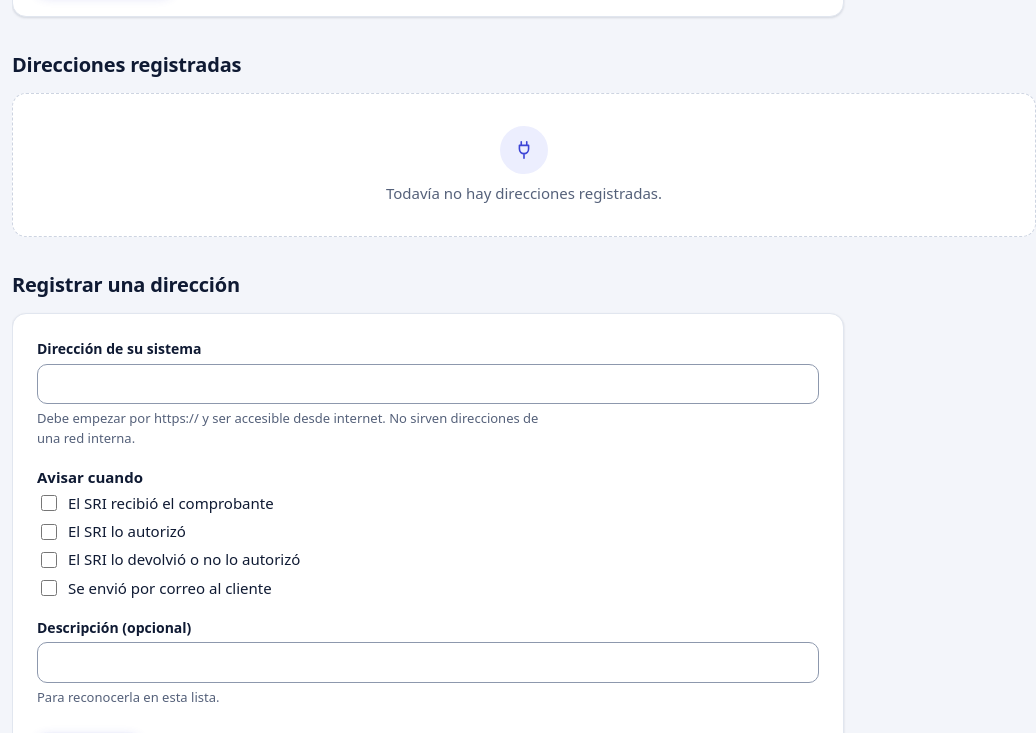
Integraciones › shows in plain words why the API refused an address
The width and height of the screenshot is (1036, 733).
(page scrolled)
expect the text "Todavía no hay direcciones registradas." is shown: met, box [386, 182, 662, 204]
Type "https://10.0.0.1/x" into the field labelled "Dirección de su sistema".
click(428, 384); type("https://10.0.0.1/x")  # box [37, 364, 819, 404]
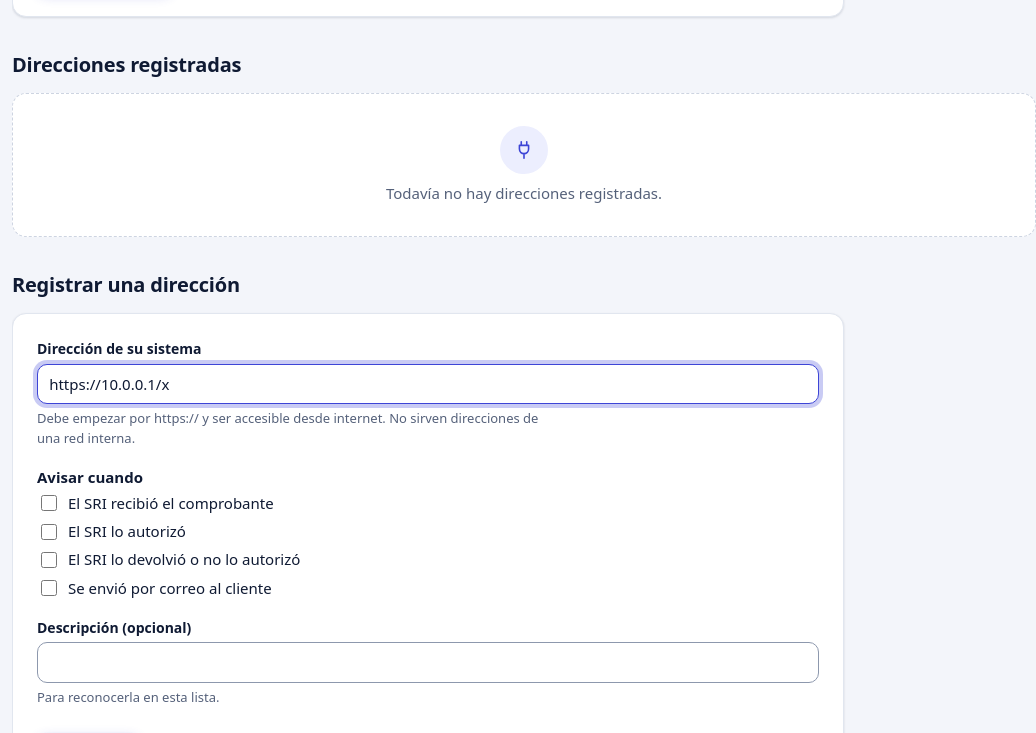
Click the checkbox labelled "El SRI lo autorizó".
click(49, 532)  # box [41, 524, 57, 540]
(page scrolled)
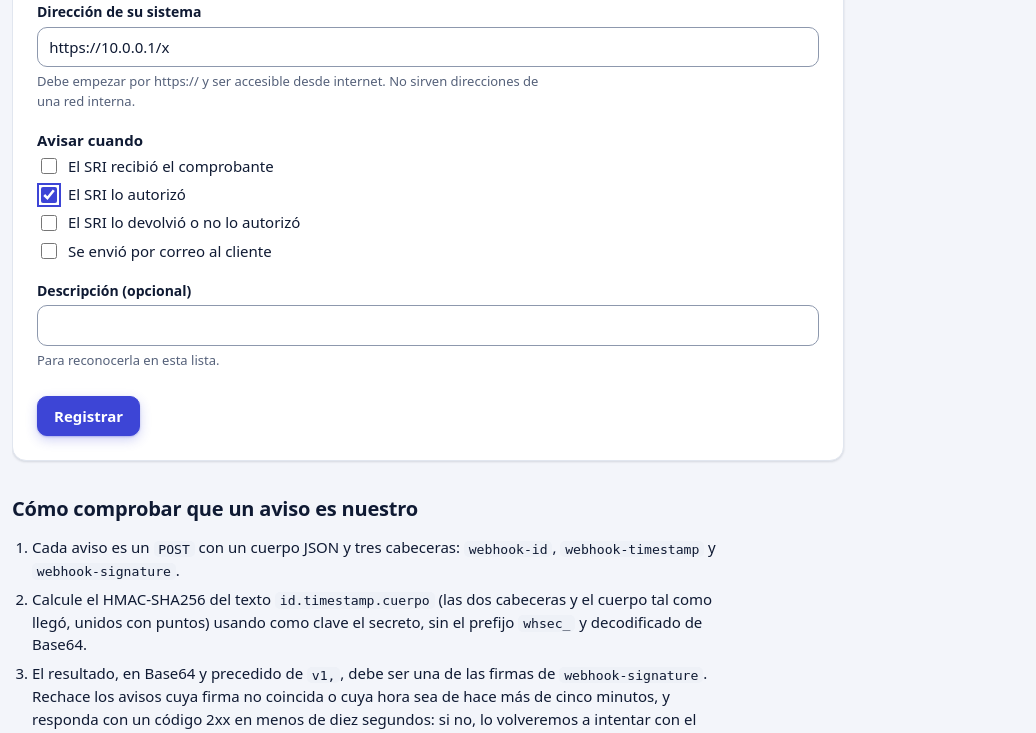
Click the button "Registrar".
click(89, 416)  # box [37, 396, 140, 436]
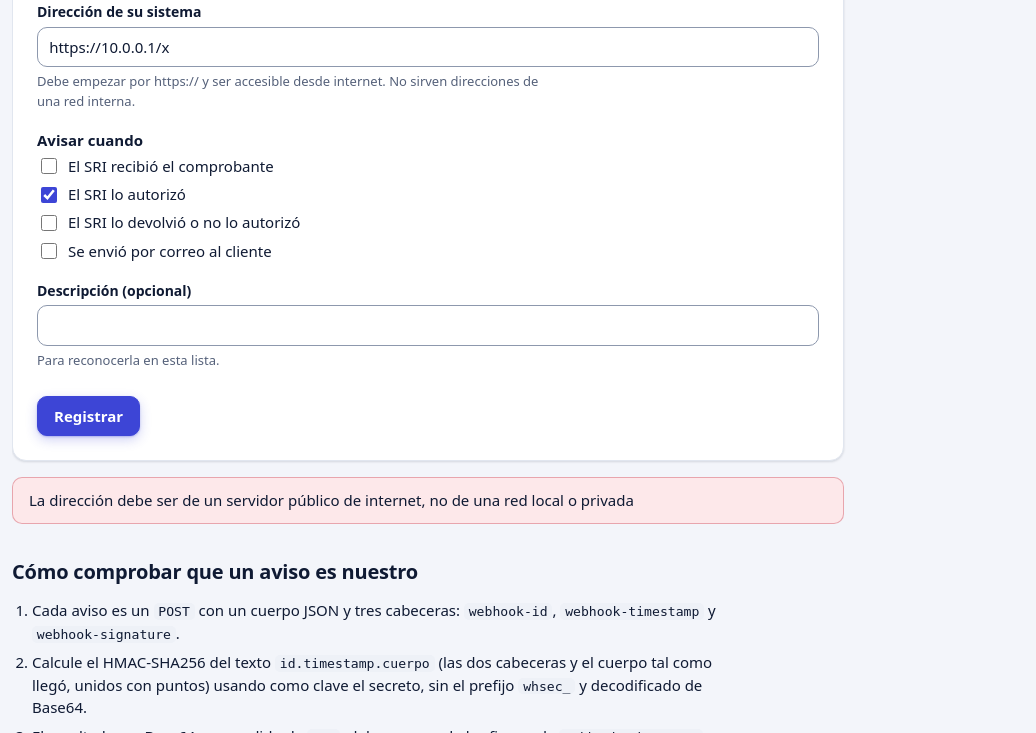
expect the text "servidor público de internet" is shown: met, box [29, 490, 634, 510]
